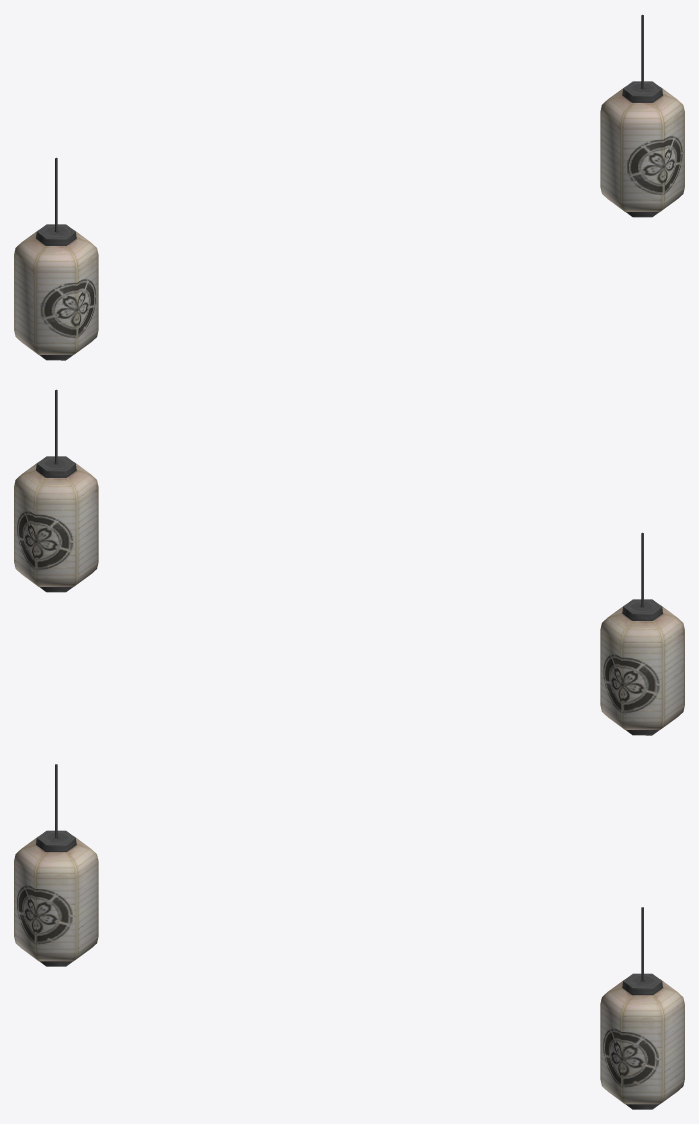
Rendered from Homeworld_Exterior_Dq_Build_Streetvendors_01_Lod0.fbx.
The picture shows the model from 3 angles, top to bottom: view 1: azimuth 30°, elevation 25°; view 2: azimuth 150°, elevation 25°; view 3: azimuth 330°, elevation 25°; orthographic projection.
Parts seen in each view (by area): view 1: Area_Dq_Light_MS_Lamp_05_Vo (1), Area_Dq_Light_MS_Lamp_05_Vo; view 2: Area_Dq_Light_MS_Lamp_05_Vo, Area_Dq_Light_MS_Lamp_05_Vo (1); view 3: Area_Dq_Light_MS_Lamp_05_Vo (1), Area_Dq_Light_MS_Lamp_05_Vo.
Boxes of the visible parts, left/top/right/bottom form: Area_Dq_Light_MS_Lamp_05_Vo (1): left=14, top=157, right=98, bottom=360; Area_Dq_Light_MS_Lamp_05_Vo: left=600, top=14, right=684, bottom=217; Area_Dq_Light_MS_Lamp_05_Vo: left=14, top=389, right=98, bottom=592; Area_Dq_Light_MS_Lamp_05_Vo (1): left=600, top=532, right=684, bottom=735; Area_Dq_Light_MS_Lamp_05_Vo (1): left=14, top=764, right=98, bottom=966; Area_Dq_Light_MS_Lamp_05_Vo: left=600, top=907, right=684, bottom=1109.
Bounding box in the file's own units: 2.35 × 0.674 × 0.2651.
